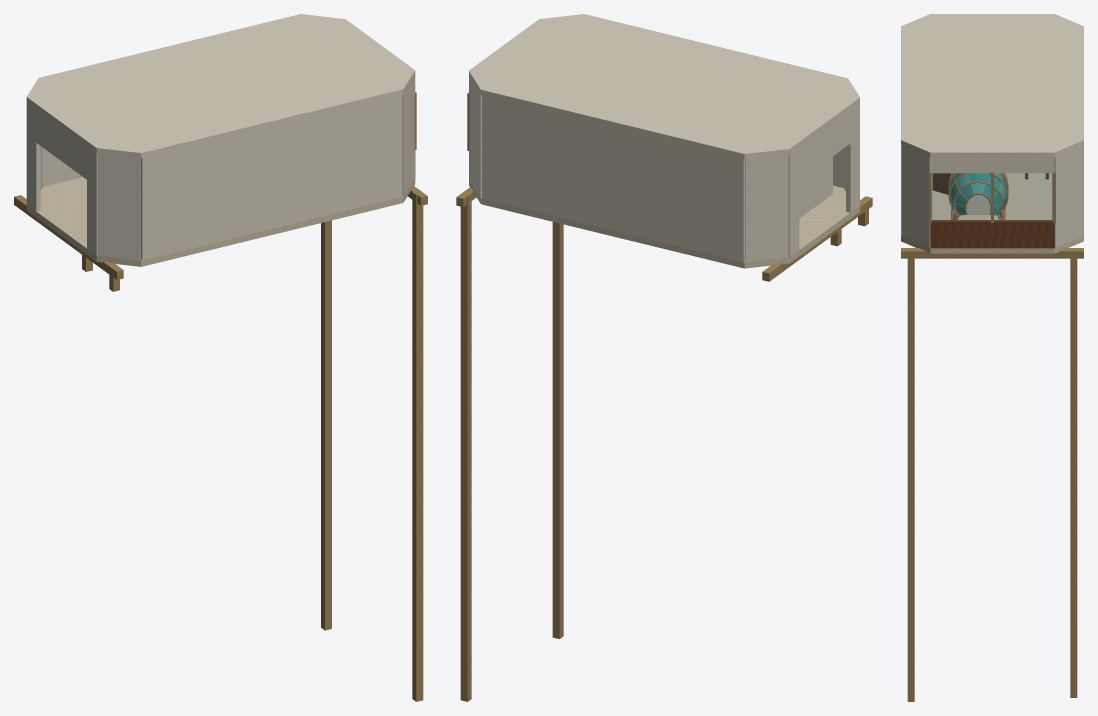
The model's file is D04_STARBOARD_AFT_HOME_963_r001.glb.
3 views of the same model, side by side, from view 1: azimuth 30°, elevation 25°; view 2: azimuth 150°, elevation 25°; view 3: azimuth 270°, elevation 25° (orthographic). The views are drawn at different scales.
Parts seen in each view (by area): view 1: SA963_D04H952_Roof, SA963_D04H952_Shell_7, SA963_D04H952_Pier_9, SA963_D04H952_Floor, SA963_D04H952_Shell_6, SA963_D04H952_Pier_10, SA963_D04H952_EntryHeader, SA963_D04H952_EntryWall_1, SA963_D04H952_Shell_0, SA963_D04H952_EntryWall_0, SA963_D04H952_Shell_3, SA963_D04H952_Long_-46.349999999999994; view 2: SA963_D04H952_Roof, SA963_D04H952_Shell_3, SA963_D04H952_Pier_10, SA963_D04H952_Pier_9, SA963_D04H952_Shell_4, SA963_D04H952_Floor, SA963_D04H952_EntryHeader, SA963_D04H952_Shell_2, SA963_D04H952_EntryWall_0, SA963_D04H952_BathDogleg, SA963_D04H952_EntryWall_1, SA963_D04H952_Long_-46.349999999999994; view 3: SA963_D04H952_Roof, SA963_D04H952_GardenGlass, SA963_D04H952_Floor, SA963_D04H952_GardenDado, SA963_D04H952_Pier_9, SA963_D04H952_Pier_10, SA963_D04H952_Shell_0, SA963_D04H952_Shell_2, SA963_D04H952_GardenHead, SA963_D04H952_Long_-58.650000000000006, SA963_ReservedCocoon__Rear ivory acoustic diffuser, SA963_D04H952_QuietWing.
Boxes of the visible parts, x1,y1,x2,y2 form: SA963_D04H952_Roof: (26, 14, 415, 158); SA963_D04H952_Shell_7: (141, 95, 402, 260); SA963_D04H952_Pier_9: (412, 190, 423, 701); SA963_D04H952_Floor: (26, 177, 415, 266); SA963_D04H952_Shell_6: (97, 153, 140, 260); SA963_D04H952_Pier_10: (321, 220, 331, 630); SA963_D04H952_EntryHeader: (36, 109, 86, 179); SA963_D04H952_EntryWall_1: (26, 102, 40, 211); SA963_D04H952_Shell_0: (402, 76, 414, 196); SA963_D04H952_EntryWall_0: (87, 146, 97, 255); SA963_D04H952_Shell_3: (43, 148, 82, 186); SA963_D04H952_Long_-46.349999999999994: (14, 195, 123, 279); SA963_D04H952_Roof: (469, 14, 859, 159); SA963_D04H952_Shell_3: (482, 95, 744, 261); SA963_D04H952_Pier_10: (460, 192, 471, 701); SA963_D04H952_Pier_9: (552, 222, 563, 638); SA963_D04H952_Shell_4: (745, 154, 788, 261); SA963_D04H952_Floor: (469, 179, 859, 268); SA963_D04H952_EntryHeader: (799, 110, 850, 180); SA963_D04H952_Shell_2: (469, 76, 481, 197); SA963_D04H952_EntryWall_0: (846, 103, 859, 212); SA963_D04H952_BathDogleg: (799, 156, 832, 218); SA963_D04H952_EntryWall_1: (788, 147, 799, 257); SA963_D04H952_Long_-46.349999999999994: (762, 196, 872, 281); SA963_D04H952_Roof: (901, 14, 1083, 156); SA963_D04H952_GardenGlass: (932, 173, 1052, 220); SA963_D04H952_Floor: (901, 173, 1083, 253); SA963_D04H952_GardenDado: (930, 220, 1054, 248); SA963_D04H952_Pier_9: (907, 248, 914, 701); SA963_D04H952_Pier_10: (1070, 248, 1077, 697); SA963_D04H952_Shell_0: (901, 145, 932, 247); SA963_D04H952_Shell_2: (1052, 145, 1083, 247); SA963_D04H952_GardenHead: (930, 157, 1054, 173); SA963_D04H952_Long_-58.650000000000006: (901, 248, 1083, 258); SA963_ReservedCocoon__Rear ivory acoustic diffuser: (966, 195, 990, 214); SA963_D04H952_QuietWing: (932, 173, 951, 194).
Size of the model in its own units: 12.92 by 23.95 by 7.2.
Materials: 36 (21 with a texture image).
